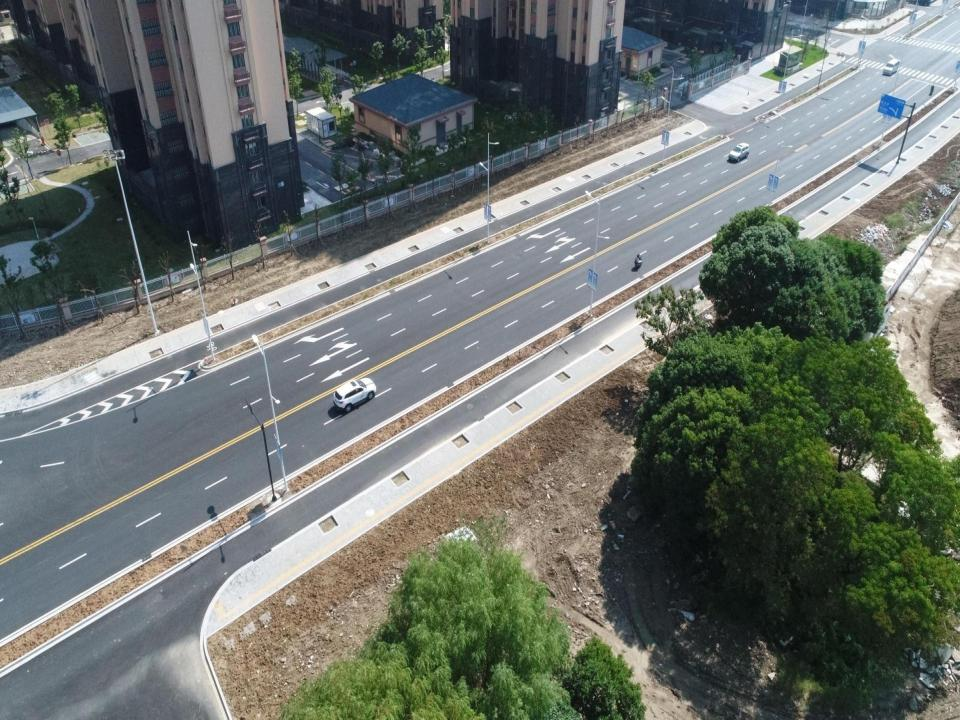car: (333, 374, 376, 412), (728, 143, 750, 163), (882, 60, 900, 76)
